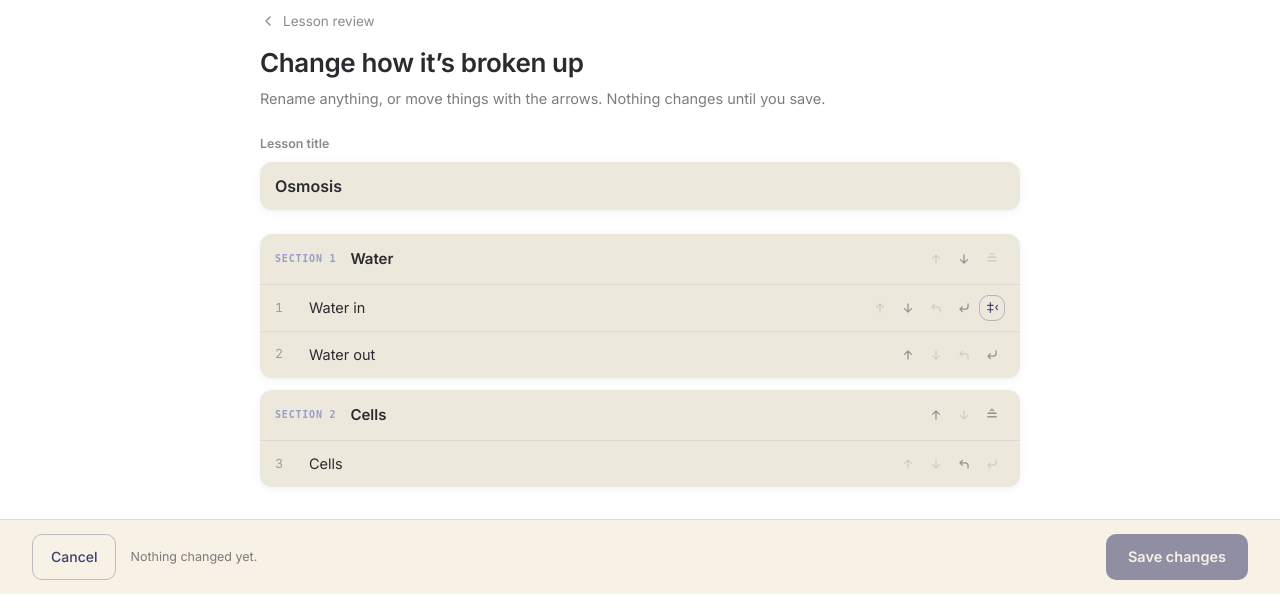
Test: reordering › moves a segment, and says the review needs signing again
What coordinates should you click on to do the following:
click the button named "Move Water out up"
I would click on:
 (908, 355)
Its box is x1=895 y1=342 x2=921 y2=368.
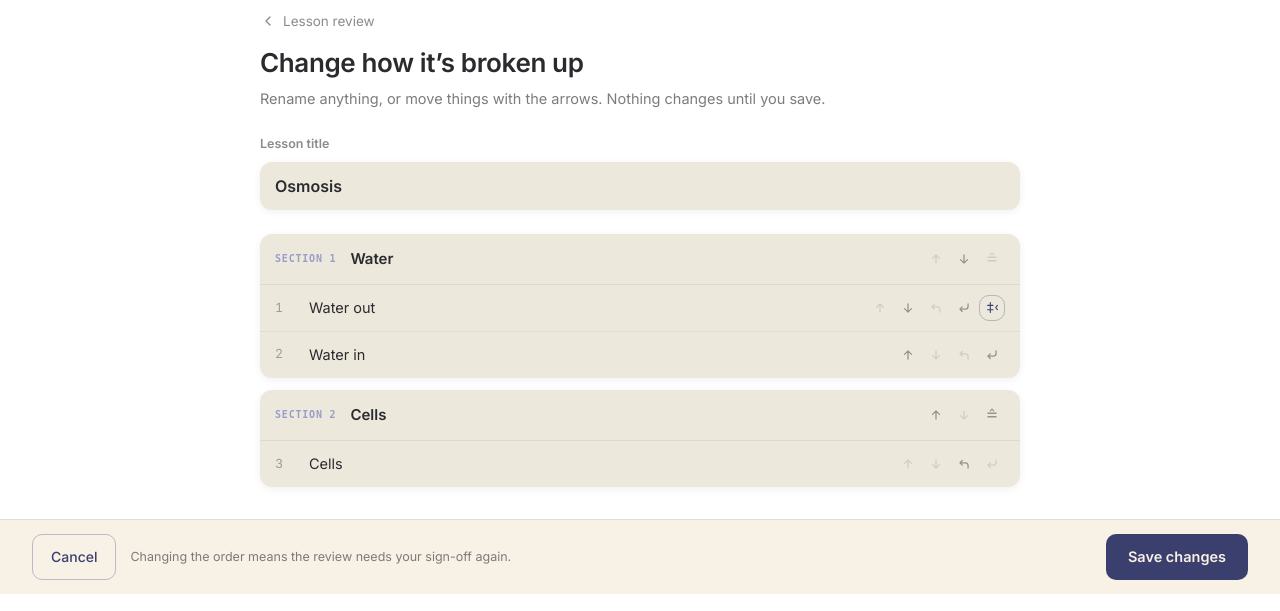
Expected: the text "Changing the order means the review needs your sign-off again." is shown, x1=130 y1=549 x2=511 y2=564
